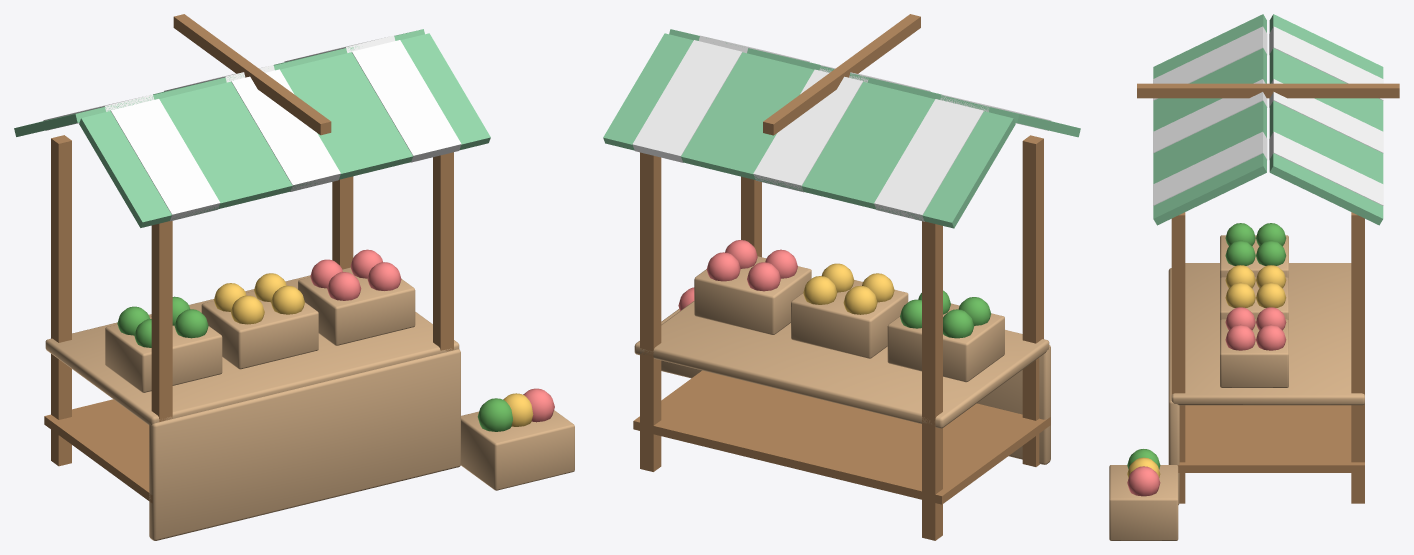
The model's file is market_stall_green.glb.
The picture shows the model from 3 angles, left to right: view 1: azimuth 30°, elevation 25°; view 2: azimuth 150°, elevation 25°; view 3: azimuth 270°, elevation 25°; orthographic projection. The views are drawn at different scales.
Visible parts, largest first — view 1: market_stall_green; view 2: market_stall_green; view 3: market_stall_green.
Boxes of the visible parts, x1,y1,x2,y2 form: market_stall_green: (14, 14, 574, 540); market_stall_green: (603, 14, 1080, 540); market_stall_green: (1109, 14, 1399, 540).
Bounding box in the file's own units: 3.05 × 2.82 × 2.1.
